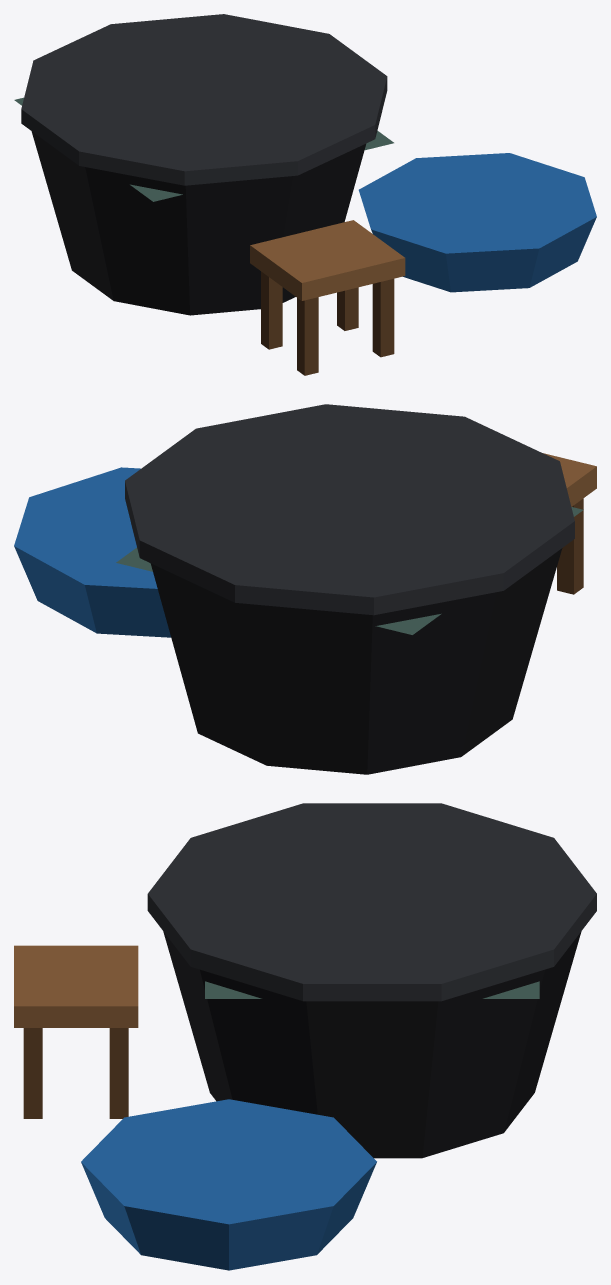
Rendered from prop_wash-pot.9f834f830844.glb.
3 views of the same model, one above another, from view 1: azimuth 30°, elevation 25°; view 2: azimuth 150°, elevation 25°; view 3: azimuth 270°, elevation 25° (orthographic). The views are drawn at different scales.
Visible parts, largest first — view 1: body; view 2: body; view 3: body.
Part boxes in pixels (bbox=[...]): body: bbox=[14, 14, 596, 375]; body: bbox=[14, 404, 596, 774]; body: bbox=[14, 803, 596, 1270].
Size of the model in its own units: 1.38 by 0.46 by 1.22.
